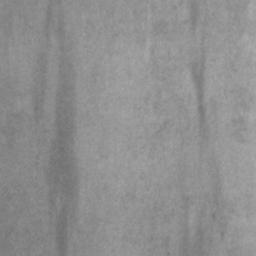Inclusion: (45, 59, 79, 252), (31, 54, 50, 118), (188, 59, 207, 119)
